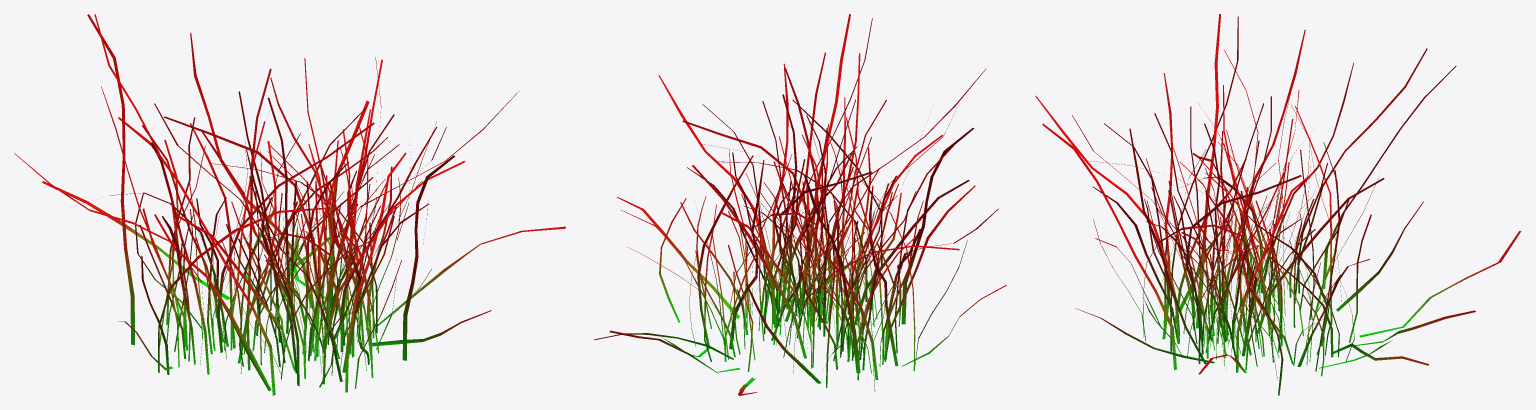
Rendered from Tundra Grass_LOD1_Var29_wk2oaeyqx.fbx.
3 views of the same model, side by side, from view 1: azimuth 30°, elevation 25°; view 2: azimuth 150°, elevation 25°; view 3: azimuth 270°, elevation 25° (orthographic). The views are drawn at different scales.
Parts seen in each view (by area): view 1: _y7w4_Var29_LOD1; view 2: _y7w4_Var29_LOD1; view 3: _y7w4_Var29_LOD1.
Part boxes in pixels (box(x1,y1,x2,y2)): _y7w4_Var29_LOD1: box(14, 14, 565, 395); _y7w4_Var29_LOD1: box(594, 14, 1006, 395); _y7w4_Var29_LOD1: box(1035, 14, 1521, 395).
Size of the model in its own units: 32.99 by 18.84 by 31.98.
